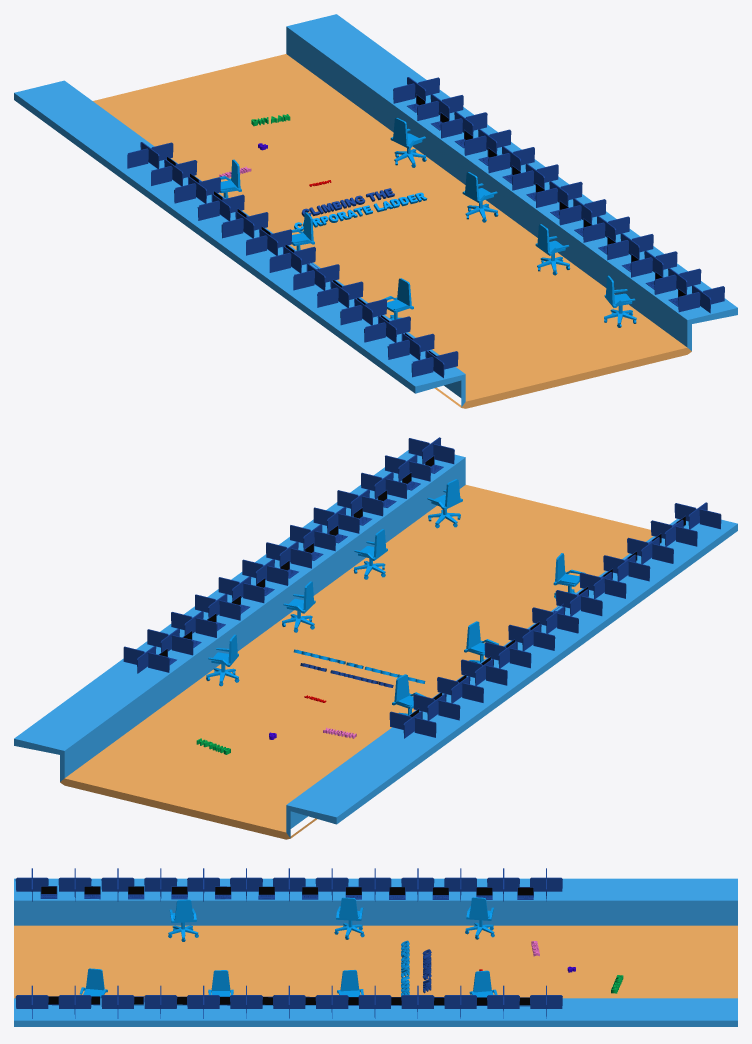
3 renders of one model, top to bottom at view 1: azimuth 30°, elevation 25°; view 2: azimuth 150°, elevation 25°; view 3: azimuth 270°, elevation 25°, orthographic. The views are drawn at different scales.
Visible parts, largest first — view 1: base, separators left, separators right, laptop left.001, Text.002, chair.007, chair.002, chair.005, chair.004, Text.001, chair.003; view 2: base, separators left, separators right, laptop left.001, chair.004, chair.005, chair.002, chair.007; view 3: base, separators left, separators right, laptop left, laptop left.001, chair.006, chair.001, chair.003, chair.004, chair.002, chair.005, chair.007 (+2 smaller).
Boxes of the visible parts, x1=… form: base: x1=14, y1=14, x2=737, y2=408; separators left: x1=127, y1=142, x2=458, y2=378; separators right: x1=393, y1=77, x2=724, y2=313; laptop left.001: x1=407, y1=94, x2=686, y2=306; Text.002: x1=294, y1=192, x2=427, y2=230; chair.007: x1=390, y1=118, x2=426, y2=167; chair.002: x1=462, y1=172, x2=498, y2=222; chair.005: x1=535, y1=224, x2=570, y2=275; chair.004: x1=604, y1=275, x2=636, y2=327; Text.001: x1=301, y1=188, x2=394, y2=216; chair.003: x1=381, y1=278, x2=413, y2=320; base: x1=14, y1=450, x2=737, y2=839; separators left: x1=389, y1=502, x2=721, y2=738; separators right: x1=123, y1=437, x2=454, y2=673; laptop left.001: x1=158, y1=455, x2=443, y2=664; chair.004: x1=427, y1=479, x2=462, y2=528; chair.005: x1=353, y1=529, x2=387, y2=579; chair.002: x1=282, y1=581, x2=315, y2=632; chair.007: x1=206, y1=634, x2=239, y2=686; base: x1=14, y1=878, x2=737, y2=1026; separators left: x1=15, y1=868, x2=562, y2=901; separators right: x1=15, y1=985, x2=562, y2=1018; laptop left: x1=40, y1=886, x2=533, y2=899; laptop left.001: x1=48, y1=996, x2=530, y2=1006; chair.006: x1=334, y1=897, x2=364, y2=939; chair.001: x1=465, y1=897, x2=494, y2=939; chair.003: x1=168, y1=899, x2=198, y2=941; chair.004: x1=79, y1=968, x2=107, y2=998; chair.002: x1=337, y1=970, x2=363, y2=996; chair.005: x1=208, y1=970, x2=233, y2=996; chair.007: x1=469, y1=970, x2=497, y2=997.
Size of the model in its own units: 20.97 by 3.19 by 45.17.
